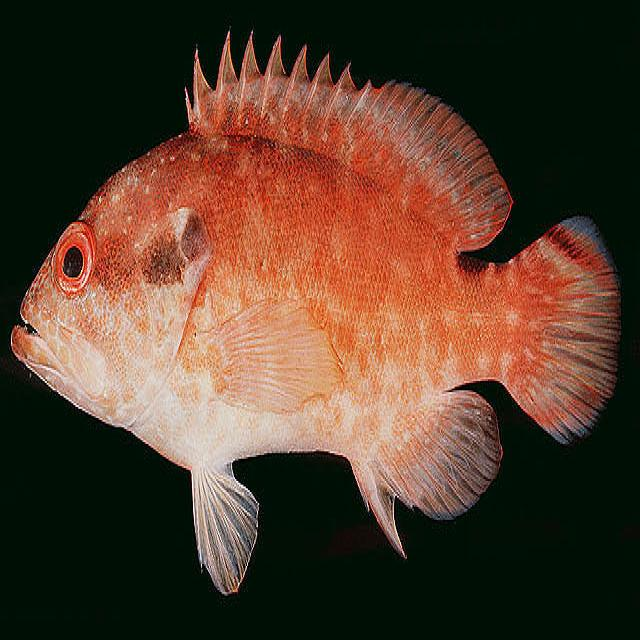ikan: (9, 26, 622, 597)
